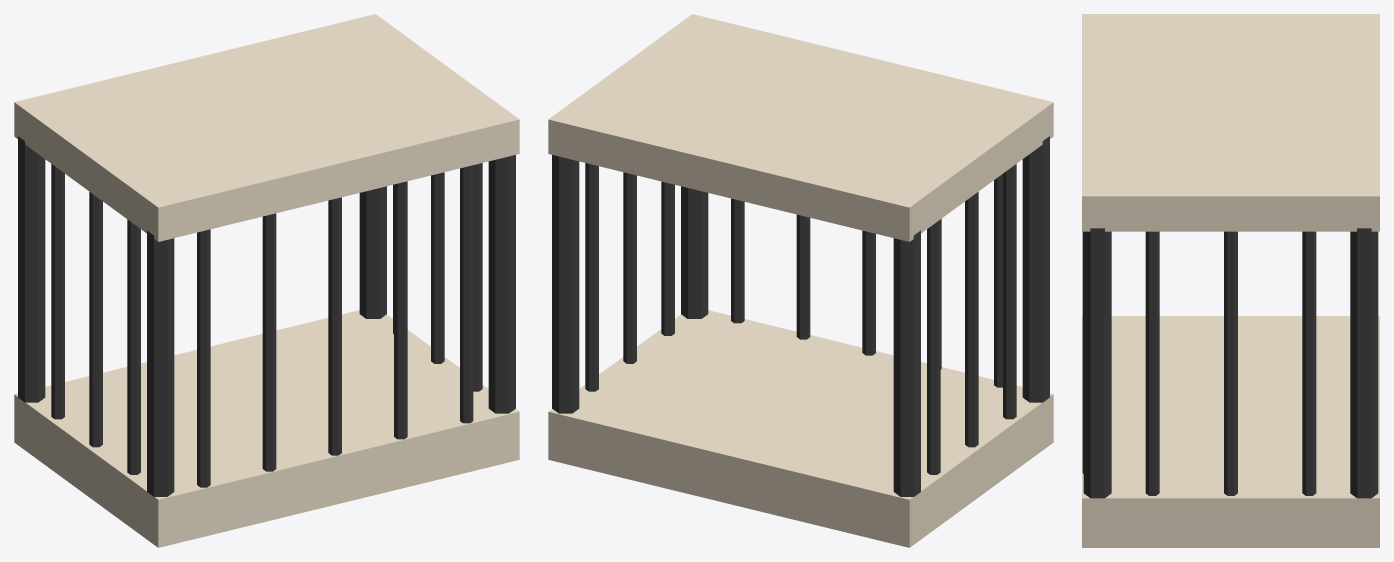
3 renders of one model, left to right at view 1: azimuth 30°, elevation 25°; view 2: azimuth 150°, elevation 25°; view 3: azimuth 270°, elevation 25°, orthographic. The views are drawn at different scales.
Parts seen in each view (by area): view 1: Roof, Floor, Corner, Corner.002, Corner.001, Door bar.001, Corner.003, Door bar, Door bar.003, Door bar.004, Door bar.002, Side bar.002 (+4 smaller); view 2: Roof, Floor, Corner.001, Corner.003, Corner, Corner.002, Side bar.002, Side bar, Side bar.004, Side bar.005, Side bar.003, Side bar.001 (+4 smaller); view 3: Roof, Floor, Corner.002, Corner.003, Side bar.001, Side bar.005, Side bar.003, Door bar.004.
Boxes of the visible parts, bbox=[...] form: Roof: bbox=[14, 14, 519, 241]; Floor: bbox=[14, 310, 519, 547]; Corner: bbox=[147, 230, 174, 496]; Corner.002: bbox=[488, 155, 515, 413]; Corner.001: bbox=[18, 136, 45, 402]; Door bar.001: bbox=[262, 213, 276, 471]; Corner.003: bbox=[359, 186, 386, 318]; Door bar: bbox=[197, 229, 210, 487]; Door bar.003: bbox=[394, 181, 407, 439]; Door bar.004: bbox=[460, 165, 473, 423]; Door bar.002: bbox=[328, 197, 341, 455]; Side bar.002: bbox=[89, 192, 102, 447]; Roof: bbox=[548, 14, 1053, 241]; Floor: bbox=[548, 310, 1053, 547]; Corner.001: bbox=[893, 230, 920, 496]; Corner.003: bbox=[552, 155, 579, 413]; Corner: bbox=[1022, 136, 1049, 402]; Corner.002: bbox=[681, 186, 708, 318]; Side bar.002: bbox=[965, 192, 978, 447]; Side bar: bbox=[1003, 164, 1016, 419]; Side bar.004: bbox=[927, 219, 940, 474]; Side bar.005: bbox=[585, 163, 598, 391]; Side bar.003: bbox=[623, 172, 636, 363]; Side bar.001: bbox=[661, 181, 674, 335]; Roof: bbox=[1082, 14, 1379, 231]; Floor: bbox=[1082, 316, 1379, 547]; Corner.002: bbox=[1083, 228, 1111, 498]; Corner.003: bbox=[1350, 228, 1378, 498]; Side bar.001: bbox=[1145, 231, 1159, 495]; Side bar.005: bbox=[1302, 231, 1316, 495]; Side bar.003: bbox=[1224, 231, 1237, 495]; Door bar.004: bbox=[1082, 231, 1083, 473].
Bounding box in the file's own units: 0.5512 × 0.495 × 0.38.
Materials: 1 (1 with a texture image).
